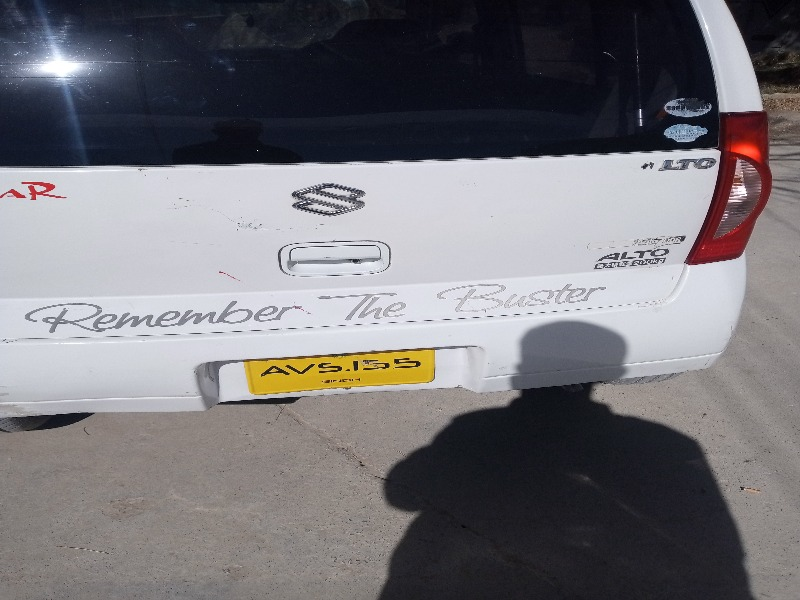License Plate: (241, 349, 440, 396)
